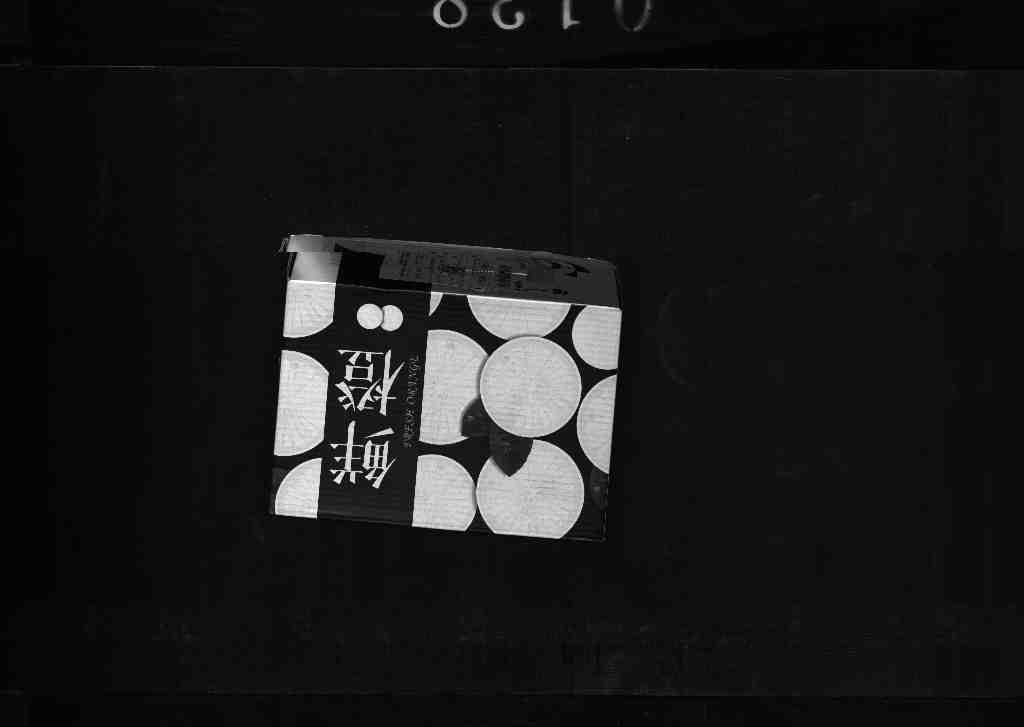box: (247, 231, 629, 557)
